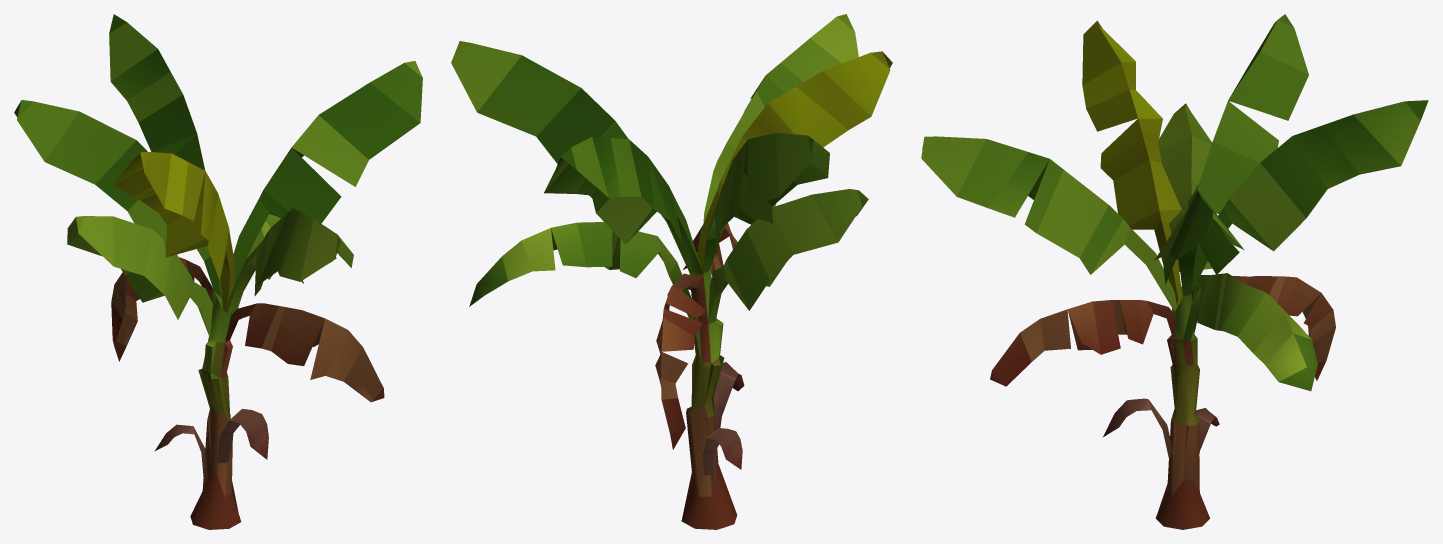
The model's file is SM_BananaTree_01.fbx.
The picture shows the model from 3 angles, left to right: view 1: azimuth 30°, elevation 25°; view 2: azimuth 150°, elevation 25°; view 3: azimuth 270°, elevation 25°; orthographic projection. The views are drawn at different scales.
Visible parts, largest first — view 1: SM_BananaTree_01; view 2: SM_BananaTree_01; view 3: SM_BananaTree_01.
Part boxes in pixels (x1,y1,x2,y2): SM_BananaTree_01: [14, 14, 422, 529]; SM_BananaTree_01: [451, 14, 892, 529]; SM_BananaTree_01: [921, 14, 1428, 529].
Bounding box in the file's own units: 4.73 × 5.15 × 5.4.
